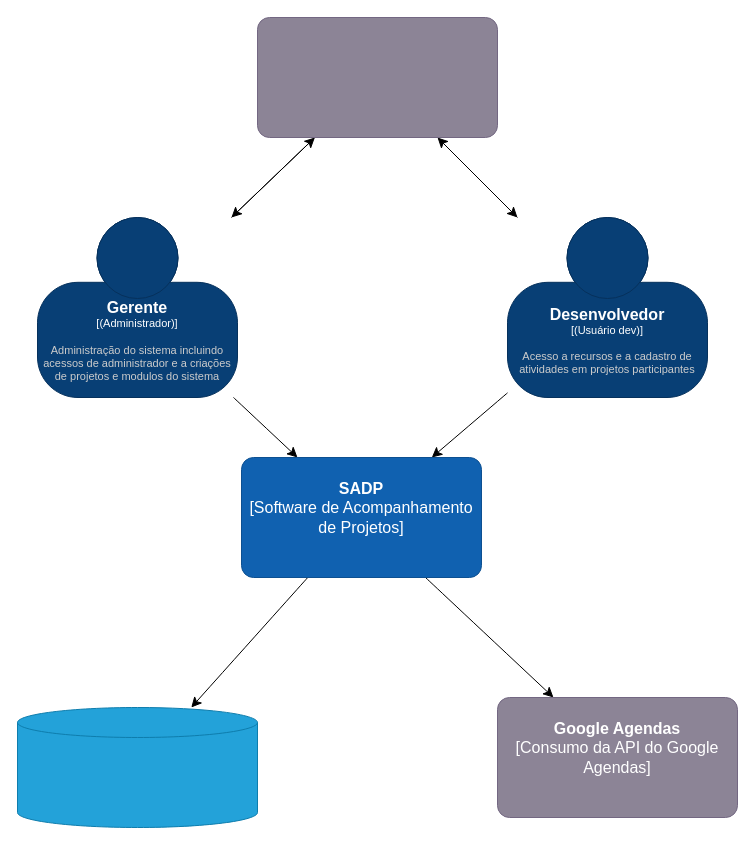
This 755x845 diagram has some shape labels left out. The centre of each missing label's shape, as x and y in pixels:
"[Banco MYSQL: ]" goes at pixel 137 767.
"Serviço de Email [Serviço de recuperação de senha do laravel - Password Reset]" goes at pixel 377 77.
